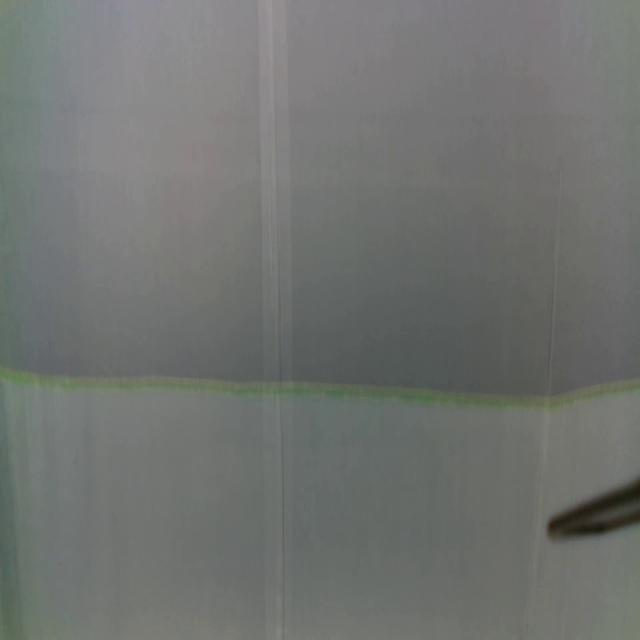crease: (258, 0, 294, 640), (534, 208, 562, 516)
